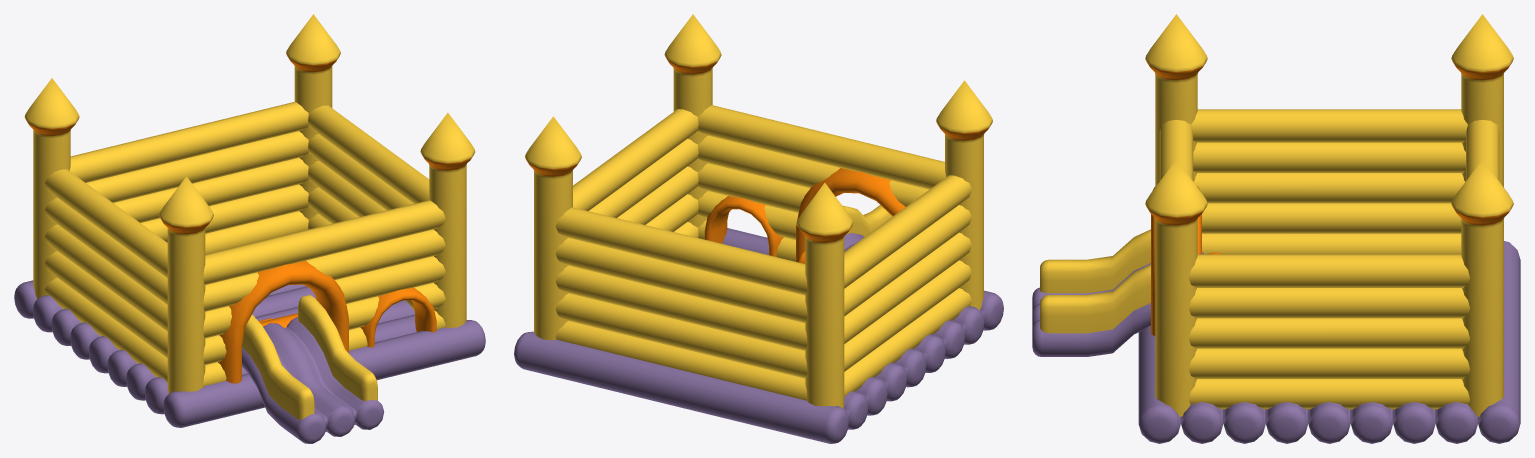
Rendered from Isl_9_Air_castle.fbx.
The picture shows the model from 3 angles, left to right: view 1: azimuth 30°, elevation 25°; view 2: azimuth 150°, elevation 25°; view 3: azimuth 270°, elevation 25°; orthographic projection. The views are drawn at different scales.
Parts seen in each view (by area): view 1: Isl_9_Air_castle; view 2: Isl_9_Air_castle; view 3: Isl_9_Air_castle.
Part boxes in pixels (x1,y1,x2,y2): Isl_9_Air_castle: (14,14,485,443); Isl_9_Air_castle: (514,14,1003,443); Isl_9_Air_castle: (1032,14,1520,443).
Size of the model in its own units: 847 by 1012 by 628.
1 material, 1 textured.
